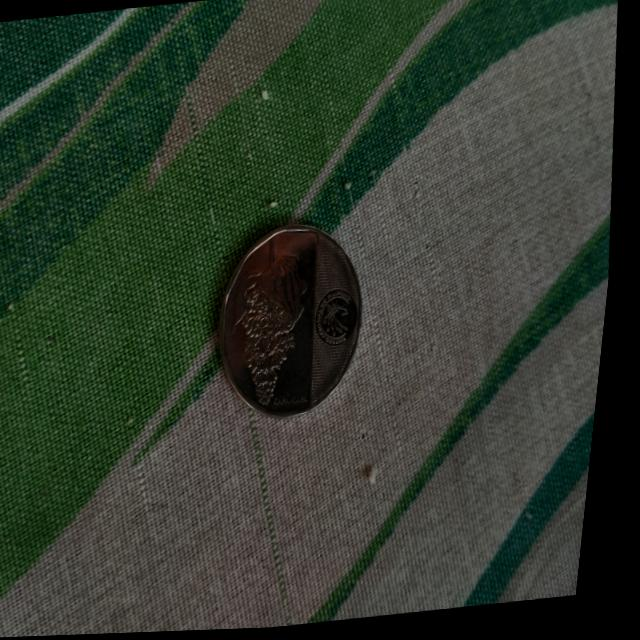10_New_Back: (220, 231, 331, 427)
